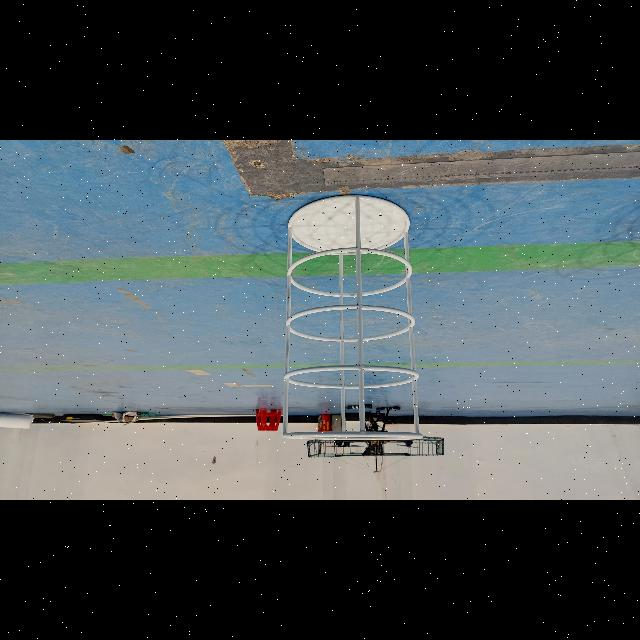S: (278, 188, 434, 440)
